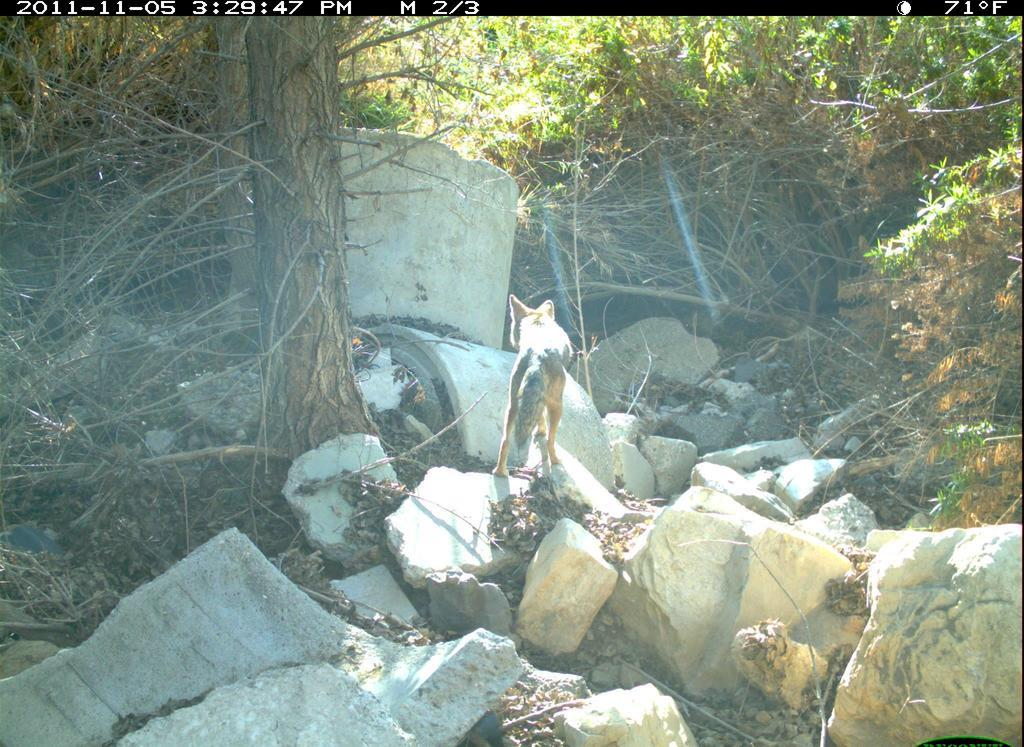coyote: (466, 281, 594, 504)
